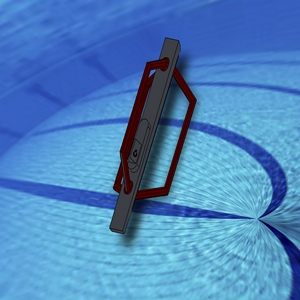submarine: (66, 15, 229, 250)
